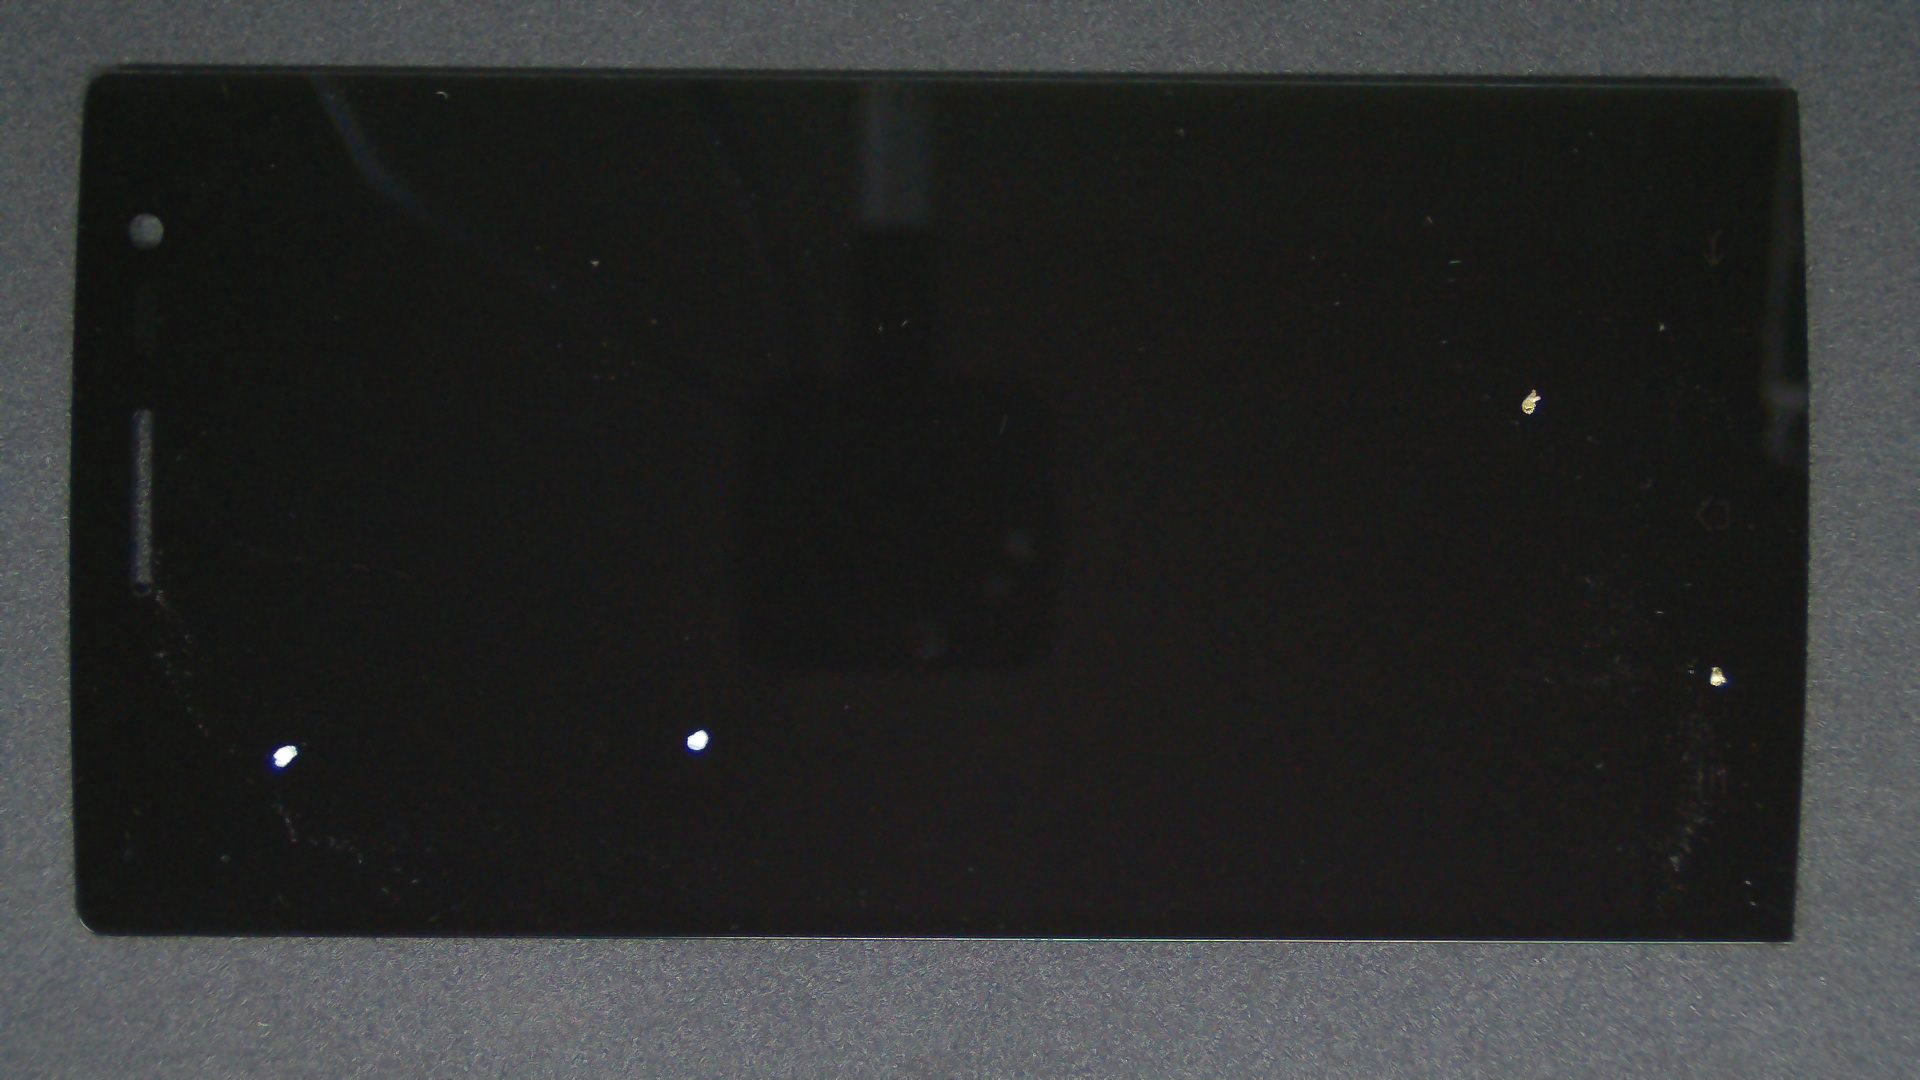defect: (272, 744, 299, 767), (1520, 388, 1542, 415), (684, 728, 709, 750), (1708, 665, 1727, 687)
